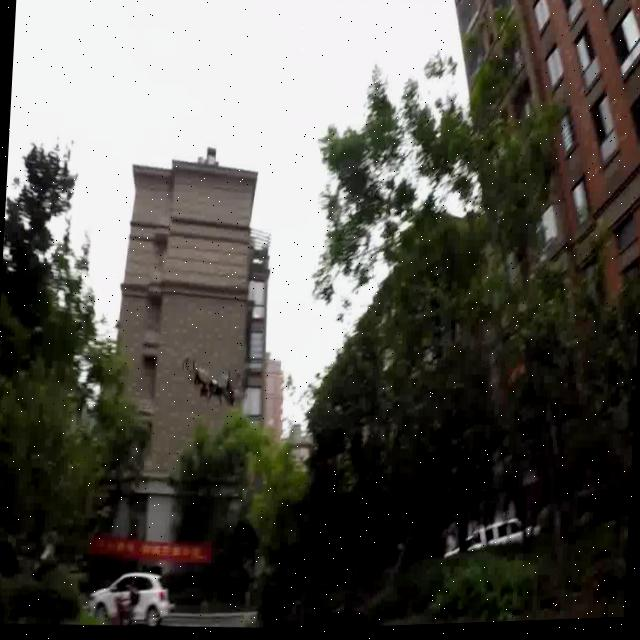drone: (178, 353, 245, 415)
